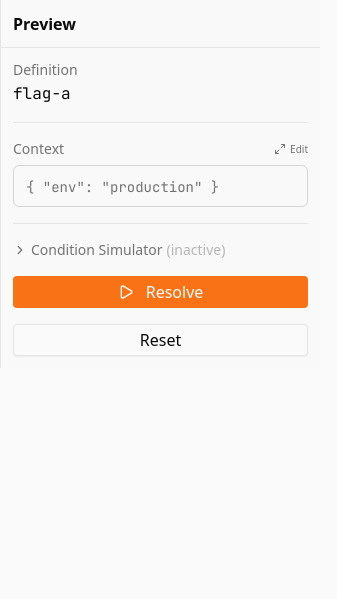
Scenario: PreviewPanel › should show condition simulator textarea when expanded
expect the field with placeholder "tier" is not shown: met
Click the button "Condition Simulator (inactive)": (160, 250) left=13, top=240, right=308, bottom=260
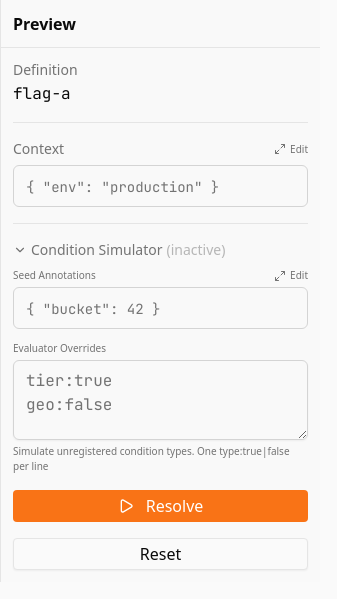
expect the text box with placeholder "tier:true geo:false" is shown: met, box left=13, top=360, right=308, bottom=440
